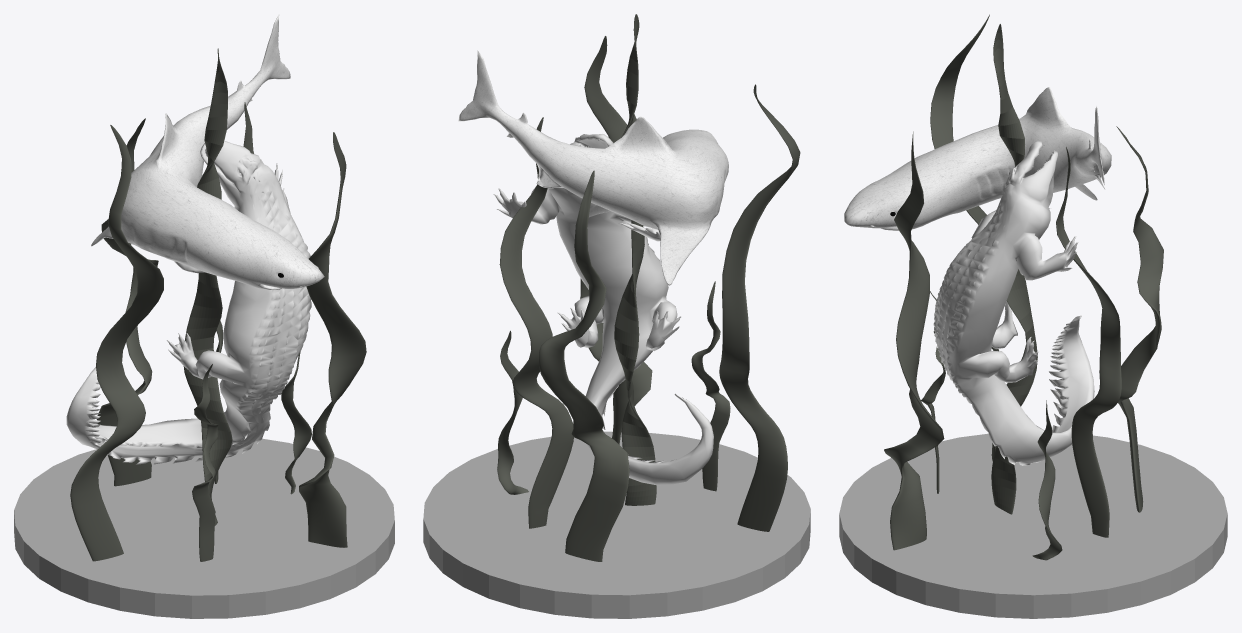
The model's file is surabaya.gltf.
3 views of the same model, side by side, from view 1: azimuth 30°, elevation 25°; view 2: azimuth 150°, elevation 25°; view 3: azimuth 270°, elevation 25° (orthographic).
Visible parts, largest first — view 1: Circle, Cube.001, GatorLP, SharkMesh01; view 2: Circle, Cube.001, SharkMesh01, GatorLP; view 3: Circle, Cube.001, GatorLP, SharkMesh01.
Boxes of the visible parts, x1=… form: Circle: x1=14, y1=438, x2=394, y2=618; Cube.001: x1=70, y1=48, x2=366, y2=561; GatorLP: x1=66, y1=141, x2=311, y2=464; SharkMesh01: x1=91, y1=14, x2=324, y2=290; Circle: x1=423, y1=431, x2=810, y2=618; Cube.001: x1=497, y1=14, x2=800, y2=561; SharkMesh01: x1=458, y1=50, x2=728, y2=285; GatorLP: x1=493, y1=134, x2=713, y2=485; Circle: x1=839, y1=433, x2=1227, y2=618; Cube.001: x1=884, y1=14, x2=1163, y2=560; GatorLP: x1=933, y1=141, x2=1094, y2=465; SharkMesh01: x1=844, y1=87, x2=1111, y2=230.
Bounding box in the file's own units: 164 × 239 × 164.
5 materials, 1 textured.
